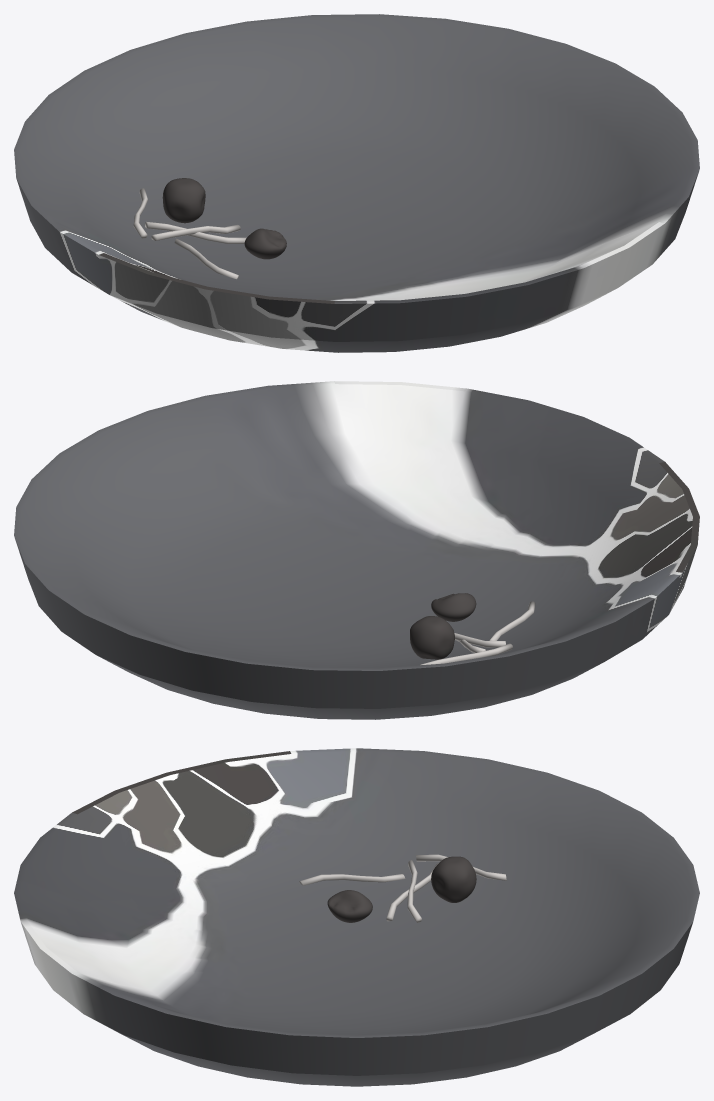
Rendered from Assets.fbx_QuestGlas.fbx_Plate.fbx.
The picture shows the model from 3 angles, top to bottom: view 1: azimuth 30°, elevation 25°; view 2: azimuth 150°, elevation 25°; view 3: azimuth 270°, elevation 25°; orthographic projection.
Parts seen in each view (by area): view 1: Plate.001, Sphere, Sphere.001, Cylinder.025, Cylinder.024; view 2: Plate.001, Sphere, Sphere.001, Cylinder.026; view 3: Plate.001, Sphere, Sphere.001, Cylinder.027.
Part boxes in pixels (<box>): Plate.001: <box>14,14,699,352</box>; Sphere: <box>162,178,205,223</box>; Sphere.001: <box>244,228,286,259</box>; Cylinder.025: <box>145,221,246,243</box>; Cylinder.024: <box>151,224,240,240</box>; Plate.001: <box>14,381,699,719</box>; Sphere: <box>410,616,454,659</box>; Sphere.001: <box>431,593,476,621</box>; Cylinder.026: <box>420,643,512,665</box>; Plate.001: <box>14,748,699,1086</box>; Sphere: <box>431,856,476,902</box>; Sphere.001: <box>327,890,372,922</box>; Cylinder.027: <box>299,874,405,885</box>.
Bounding box in the file's own units: 29.22 × 4.8 × 29.22.
